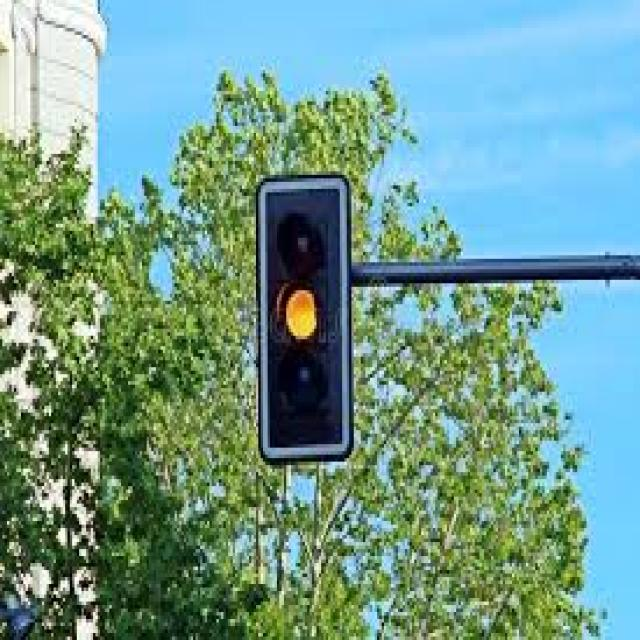yellow light: (276, 216, 328, 412)
